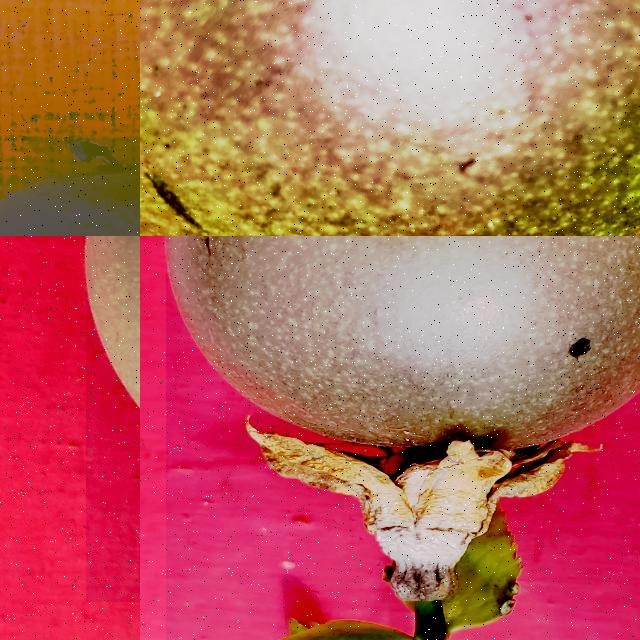Estado-2: (140, 0, 640, 236)
Estado-3: (167, 236, 640, 640)
